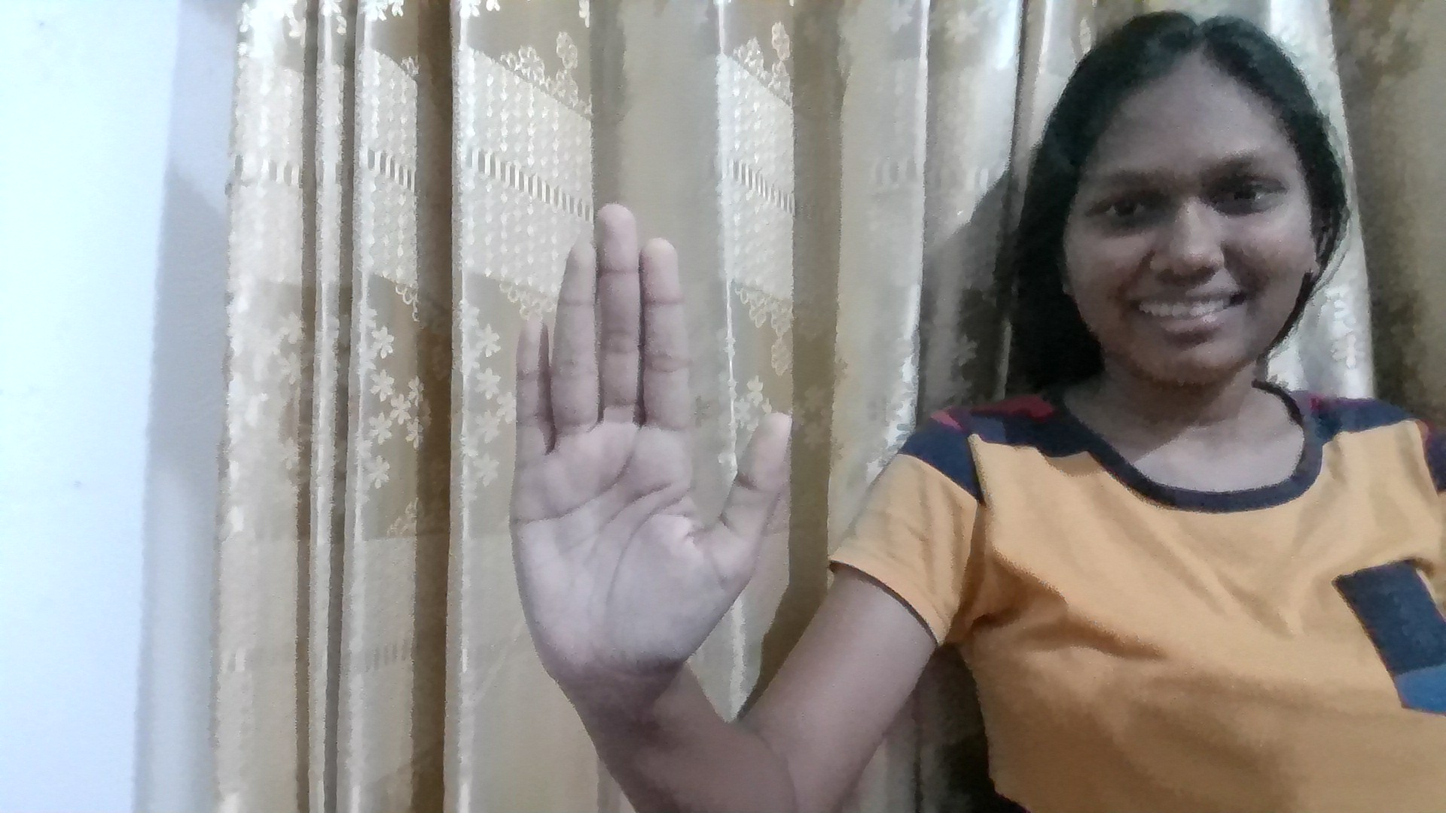Hello: (452, 114, 826, 688)
